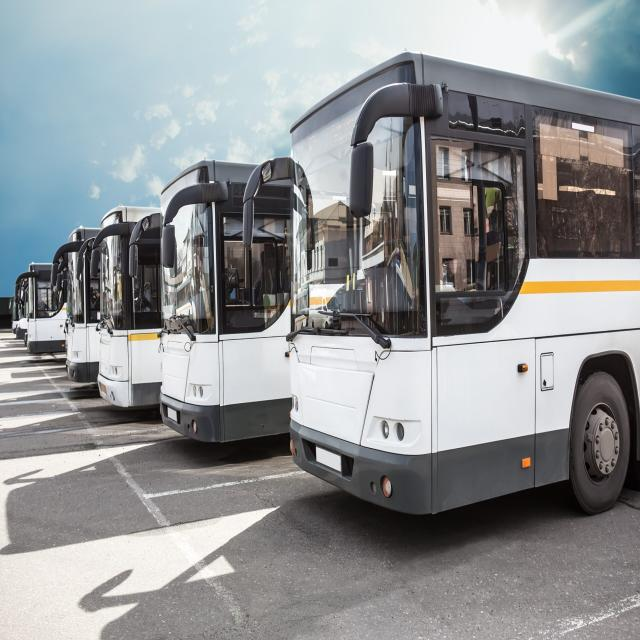bus: (242, 52, 640, 514), (130, 161, 291, 442), (90, 206, 161, 407), (51, 227, 100, 382), (15, 262, 66, 354)
